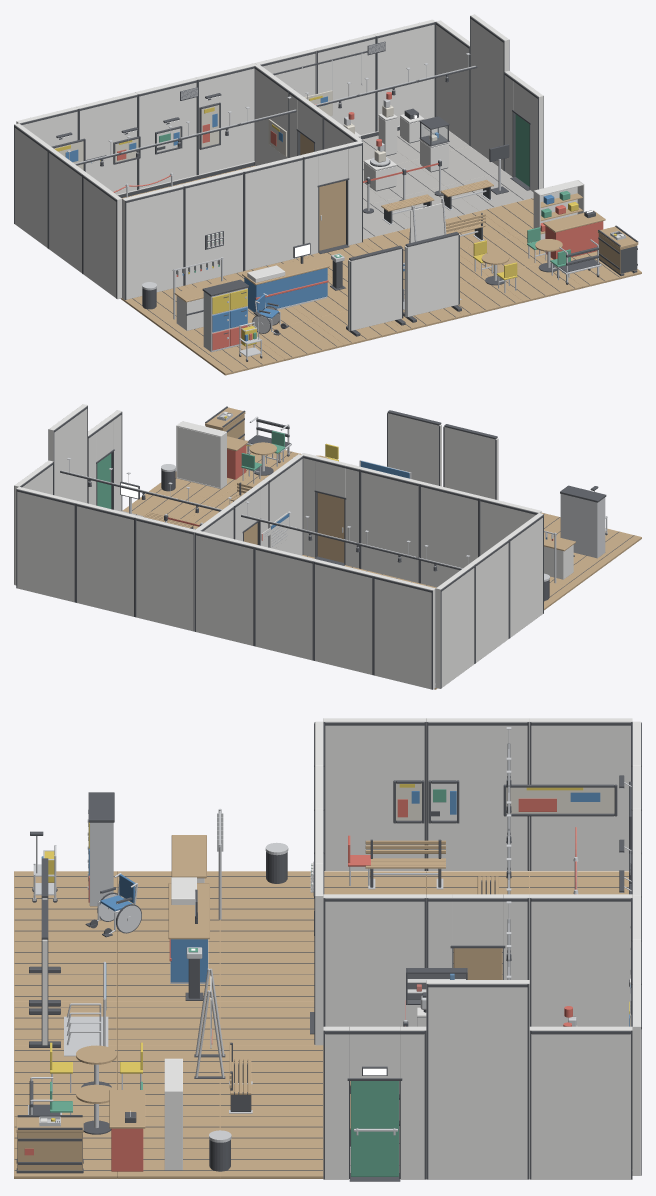
The picture shows the model from 3 angles, top to bottom: view 1: azimuth 30°, elevation 25°; view 2: azimuth 150°, elevation 25°; view 3: azimuth 270°, elevation 25°; orthographic projection. The views are drawn at different scales.
Visible parts, largest first — view 1: 058-gallery-wall-module/0, 060-gallery-wall-module/0, 059-gallery-wall-module/0, 048-gallery-wall-module/0, 044-gallery-wall-module/0, 053-gallery-wall-module-tall/0, 045-gallery-wall-module/0, 047-gallery-wall-module/0, 043-gallery-wall-module/0, 051-gallery-wall-module/0, 146-movable-partition-wall/1, 061-gallery-doorway-module/0 (+57 smaller); view 2: 042-gallery-wall-module/0, 046-gallery-wall-module/0, 043-gallery-wall-module/0, 048-gallery-wall-module/0, 045-gallery-wall-module/0, 044-gallery-wall-module/0, 047-gallery-wall-module/0, 060-gallery-wall-module/0, 059-gallery-wall-module/0, 049-gallery-wall-module/0, 061-gallery-doorway-module/0, 050-gallery-wall-module/0 (+37 smaller); view 3: 053-gallery-wall-module-tall/0, 052-gallery-wall-module/0, 055-gallery-wall-module/0, 050-gallery-wall-module/0, 051-gallery-wall-module/0, 057-gallery-wall-module/0, 049-gallery-wall-module/0, 054-fire-exit-module/0, 056-gallery-doorway-module/0, 054-fire-exit-module/leaf/green, 039-gallery-floor-tile/0, 024-gallery-floor-tile/0 (+62 smaller).
Part boxes in pixels (x1=…): 058-gallery-wall-module/0: x1=122, y1=184, x2=183, y2=299; 060-gallery-wall-module/0: x1=241, y1=155, x2=302, y2=270; 059-gallery-wall-module/0: x1=182, y1=170, x2=243, y2=285; 048-gallery-wall-module/0: x1=374, y1=19, x2=435, y2=130; 044-gallery-wall-module/0: x1=135, y1=77, x2=197, y2=188; 053-gallery-wall-module-tall/0: x1=470, y1=14, x2=509, y2=170; 045-gallery-wall-module/0: x1=195, y1=63, x2=256, y2=174; 047-gallery-wall-module/0: x1=314, y1=34, x2=375, y2=135; 043-gallery-wall-module/0: x1=76, y1=92, x2=137, y2=194; 051-gallery-wall-module/0: x1=83, y1=173, x2=121, y2=299; 146-movable-partition-wall/1: x1=404, y1=234, x2=459, y2=317; 061-gallery-doorway-module/0: x1=301, y1=140, x2=362, y2=256; 042-gallery-wall-module/0: x1=374, y1=574, x2=435, y2=689; 046-gallery-wall-module/0: x1=135, y1=516, x2=197, y2=631; 043-gallery-wall-module/0: x1=314, y1=559, x2=375, y2=674; 048-gallery-wall-module/0: x1=16, y1=486, x2=78, y2=602; 045-gallery-wall-module/0: x1=195, y1=530, x2=256, y2=645; 044-gallery-wall-module/0: x1=255, y1=545, x2=316, y2=660; 047-gallery-wall-module/0: x1=76, y1=501, x2=137, y2=616; 060-gallery-wall-module/0: x1=360, y1=467, x2=421, y2=582; 059-gallery-wall-module/0: x1=420, y1=482, x2=481, y2=587; 049-gallery-wall-module/0: x1=436, y1=563, x2=474, y2=688; 061-gallery-doorway-module/0: x1=301, y1=453, x2=362, y2=568; 050-gallery-wall-module/0: x1=470, y1=538, x2=508, y2=662; 053-gallery-wall-module-tall/0: x1=426, y1=980, x2=529, y2=1179; 052-gallery-wall-module/0: x1=529, y1=1026, x2=632, y2=1179; 055-gallery-wall-module/0: x1=529, y1=894, x2=632, y2=1026; 050-gallery-wall-module/0: x1=426, y1=718, x2=529, y2=870; 051-gallery-wall-module/0: x1=323, y1=718, x2=426, y2=870; 057-gallery-wall-module/0: x1=323, y1=894, x2=426, y2=1026; 049-gallery-wall-module/0: x1=529, y1=718, x2=632, y2=870; 054-fire-exit-module/0: x1=323, y1=1026, x2=426, y2=1179; 056-gallery-doorway-module/0: x1=426, y1=894, x2=529, y2=979; 054-fire-exit-module/leaf/green: x1=351, y1=1081, x2=398, y2=1176; 039-gallery-floor-tile/0: x1=220, y1=1132, x2=323, y2=1178; 024-gallery-floor-tile/0: x1=220, y1=914, x2=314, y2=958.
Size of the model in its own units: 14.44 by 4.26 by 12.18.
